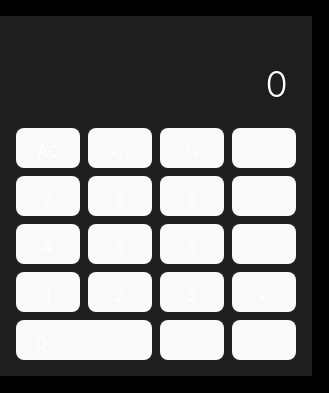
it: CalculatorApp › updates the display when digit buttons are clicked
This screenshot has width=329, height=393.
Click the button "5": (120, 244) [88, 224, 152, 264]
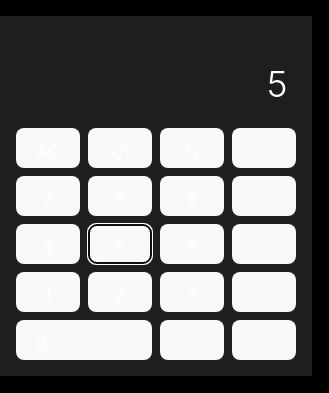
Expected: the text with test id "display" reads "5", [267, 64, 288, 104]
Click the button "3": (192, 292) [160, 272, 224, 312]
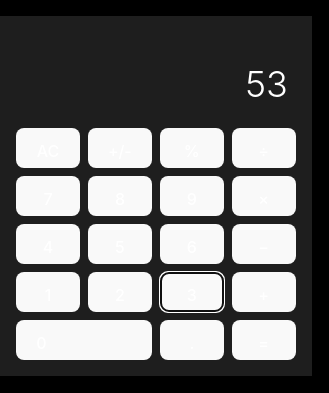
Expected: the text with test id "display" reads "53", [245, 62, 288, 106]
